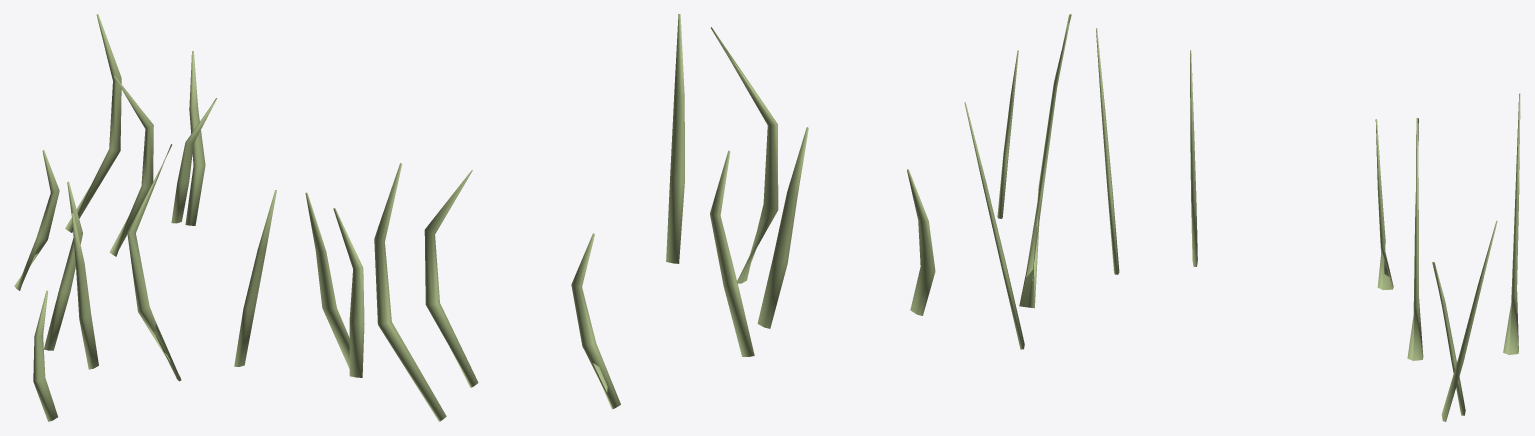
The model's file is tuft.glb.
3 renders of one model, left to right at view 1: azimuth 30°, elevation 25°; view 2: azimuth 150°, elevation 25°; view 3: azimuth 270°, elevation 25°, orthographic. The views are drawn at different scales.
Visible parts, largest first — view 1: Blade8, Blade9, Blade4, Blade0, Blade3, Blade1, Blade6, Blade7, Blade2, Blade5; view 2: Blade9, Blade4, Blade0, Blade1, Blade6, Blade8, Blade2, Blade5, Blade3, Blade7; view 3: Blade8, Blade9, Blade0, Blade4, Blade1, Blade3, Blade6, Blade2, Blade7, Blade5.
Part boxes in pixels (x1,y1,x2,y2): Blade8: (127,144,181,381); Blade9: (65,14,121,232); Blade4: (234,190,276,366); Blade0: (109,75,153,256); Blade3: (185,51,205,225); Blade1: (71,213,98,369); Blade6: (44,181,82,350); Blade7: (33,290,57,421); Blade2: (14,150,59,290); Blade5: (171,98,216,223); Blade9: (374,163,446,421); Blade4: (666,14,684,263); Blade0: (424,170,478,387); Blade1: (757,127,808,328); Blade6: (710,150,754,356); Blade8: (711,27,778,283); Blade2: (571,233,620,409); Blade5: (333,208,364,377); Blade3: (305,192,349,368); Blade7: (907,169,935,315); Blade8: (1019,14,1071,308); Blade9: (1503,93,1520,354); Blade0: (1407,118,1423,360); Blade4: (964,102,1024,349); Blade1: (1096,28,1119,274); Blade3: (1441,221,1497,421); Blade6: (1190,50,1197,266); Blade2: (1375,119,1393,290); Blade7: (997,50,1018,218); Blade5: (1432,261,1465,415).
Bounding box in the file's own units: 0.7384 × 0.4592 × 0.7682.
